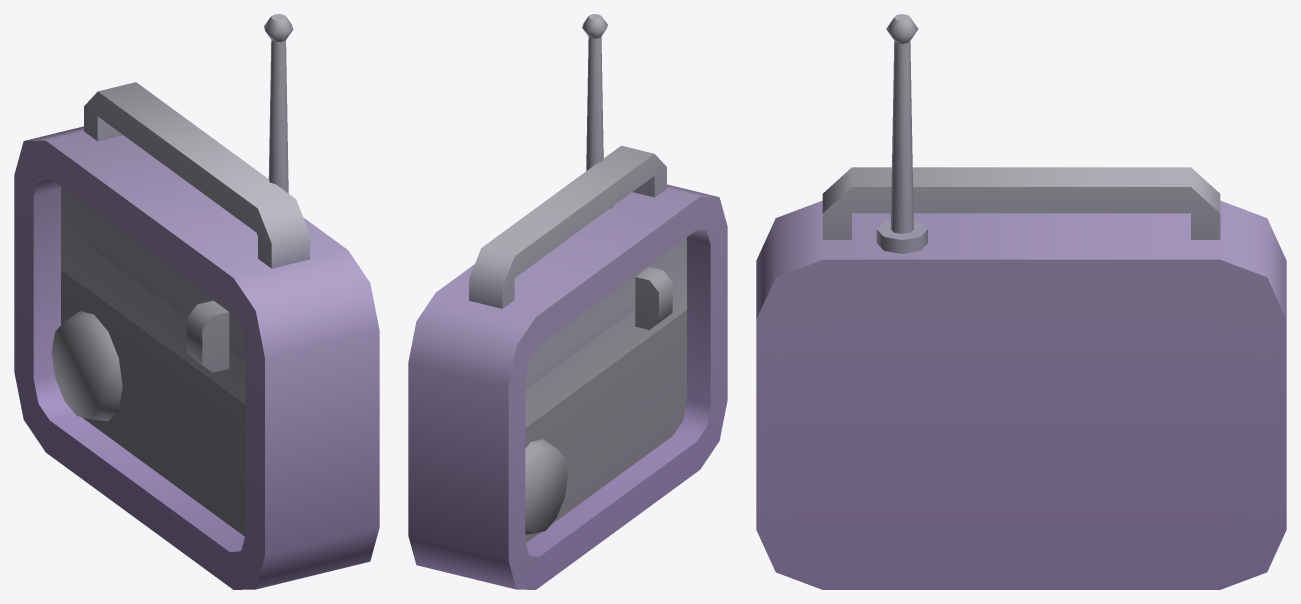
The model's file is radio.glb.
3 views of the same model, side by side, from view 1: azimuth 30°, elevation 25°; view 2: azimuth 150°, elevation 25°; view 3: azimuth 270°, elevation 25° (orthographic). The views are drawn at different scales.
Visible parts, largest first — view 1: radio; view 2: radio; view 3: radio.
Boxes of the visible parts, x1,y1,x2,y2 form: radio: (14, 14, 379, 589); radio: (408, 14, 727, 589); radio: (756, 14, 1286, 589).
Size of the model in its own units: 0.1053 by 0.4615 by 0.399.
